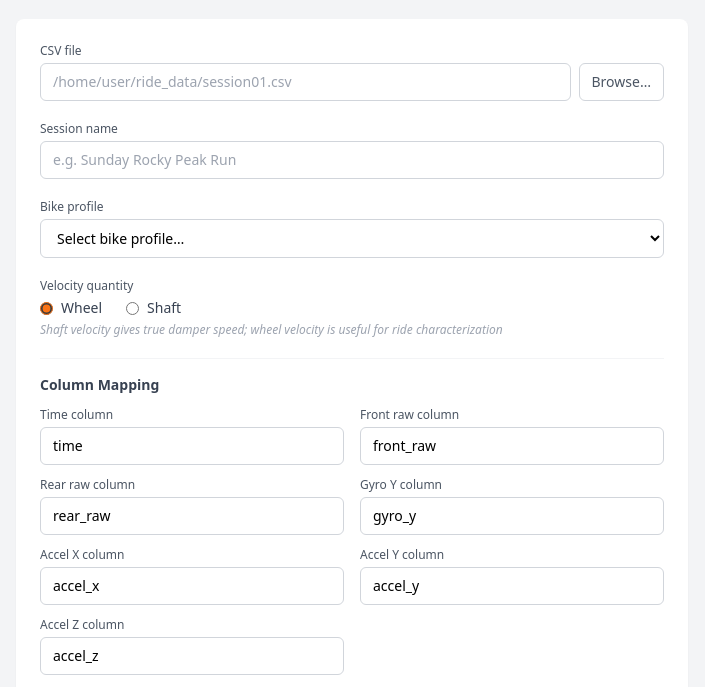
Test case: ImportPage › Import Session button becomes enabled once all required fields are filled (path mode)
Type "/data/myride.csv" into the field with placeholder "/home/user/ride_data/session01.csv".
click(305, 82); type("/data/myride.csv")  # box [40,63,570,101]
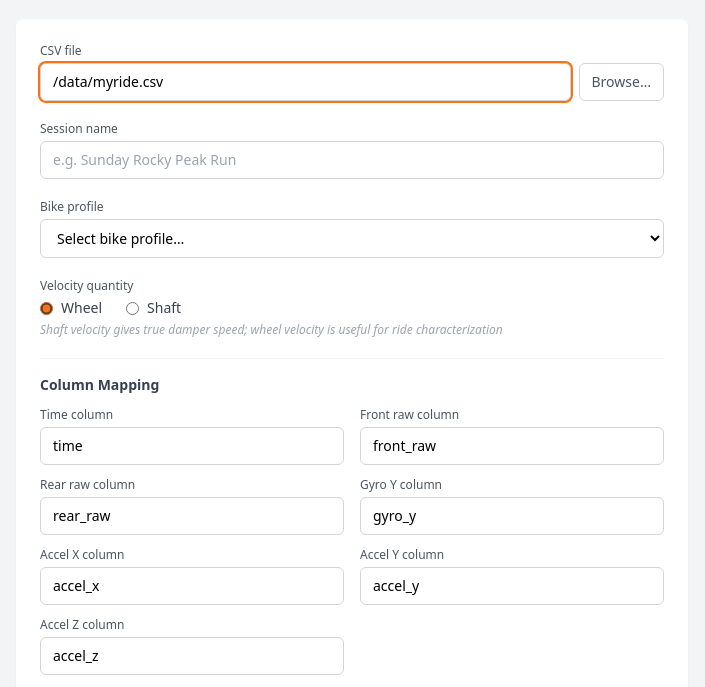
Type "My Test Ride" into the field with placeholder "e.g. Sunday Rocky Peak Run".
click(352, 160); type("My Test Ride")  # box [40,141,664,179]
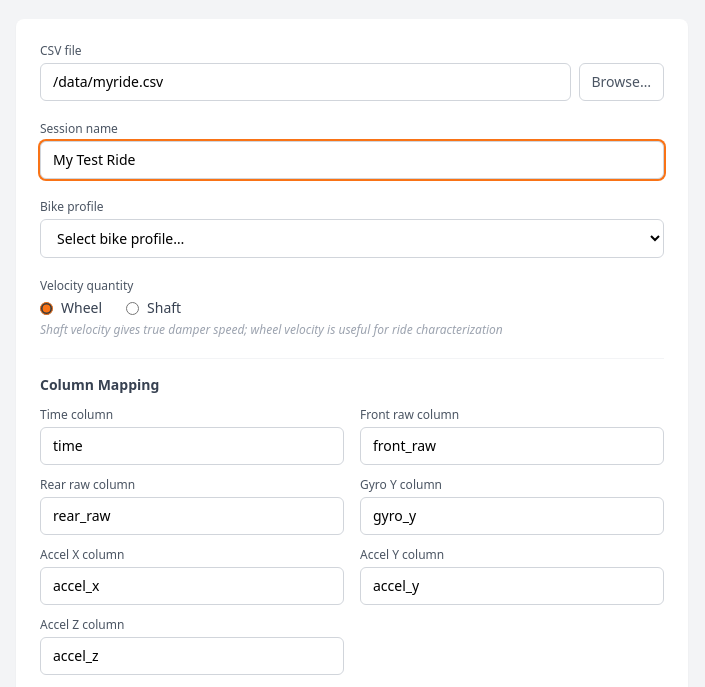
Select "Yamaha Ténéré 700 (Test Profile)" in the dropdown at coordinates (352, 238), box [40,219,664,258]
(page scrolled)
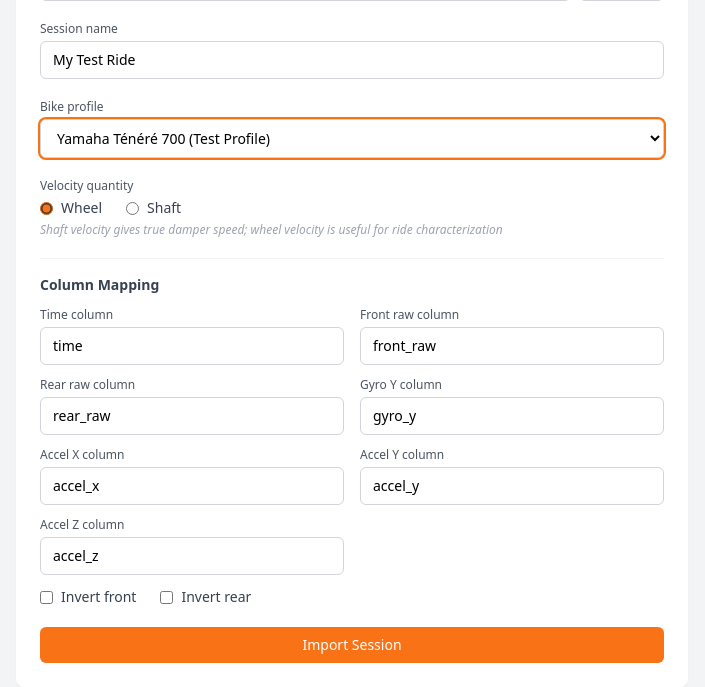
Check: the button "Import Session" is enabled, box [40,627,664,663]
